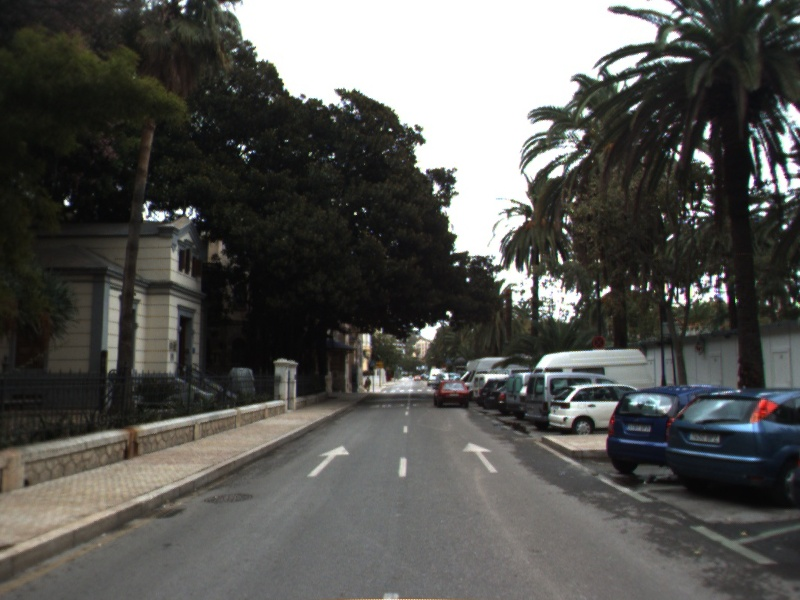STRAIGHT: (305, 443, 352, 479), (460, 440, 500, 475)
